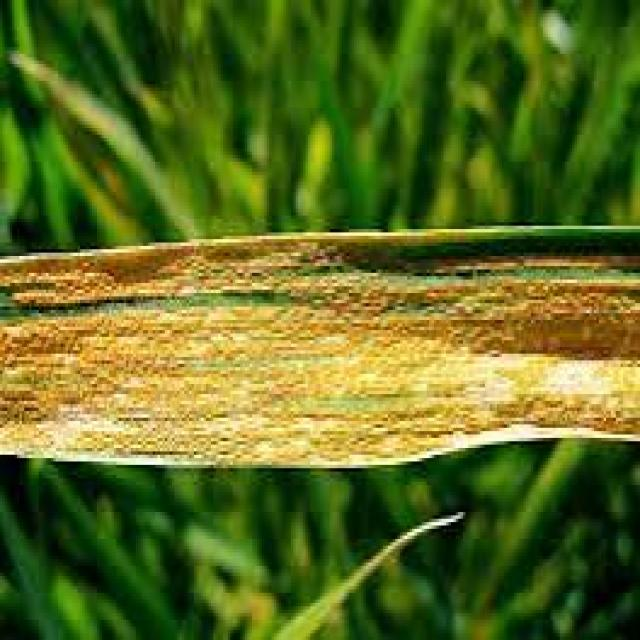leaf_blight: (0, 226, 638, 465)
